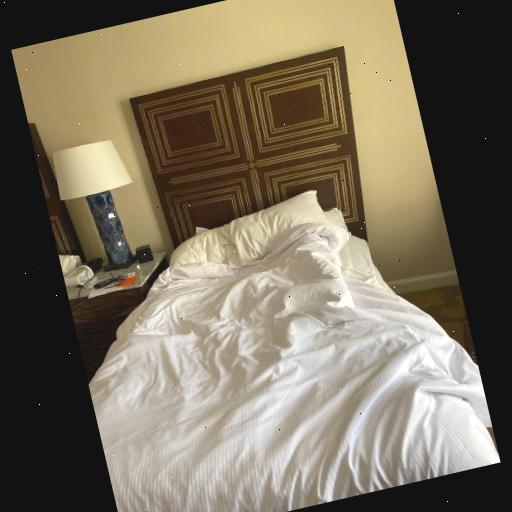Disorganized_pillow: (154, 178, 347, 291)
clean_sink: (48, 124, 150, 280)
messy_bed: (89, 44, 497, 512)
